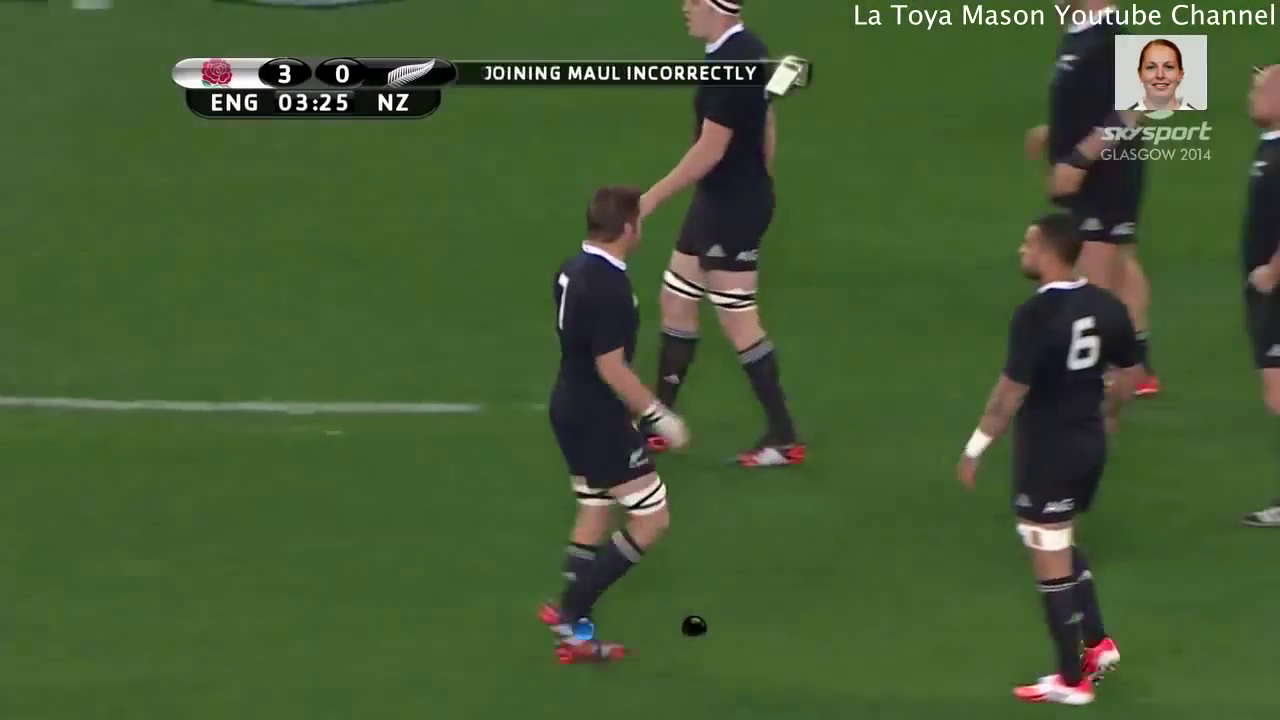player: (959, 220, 1145, 711), (629, 1, 821, 476), (520, 176, 678, 684)
